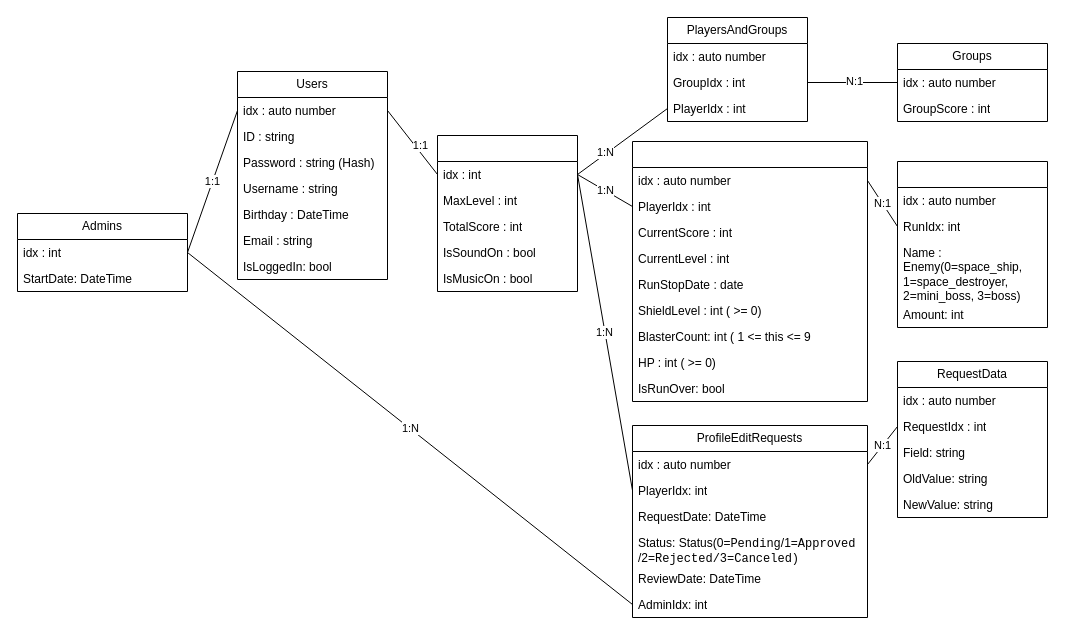
Some shapes in this 1065 by 638 pixel diagram are drawn without their labels. The shapes that lost their labels are listed below. From the top down, each one's box as (x1, y1, x2, y2) in pixels, then its label:
(436, 134, 578, 292): Players
(896, 160, 1048, 328): EnemiesInLastLevel
(632, 140, 868, 402): Runs Info
